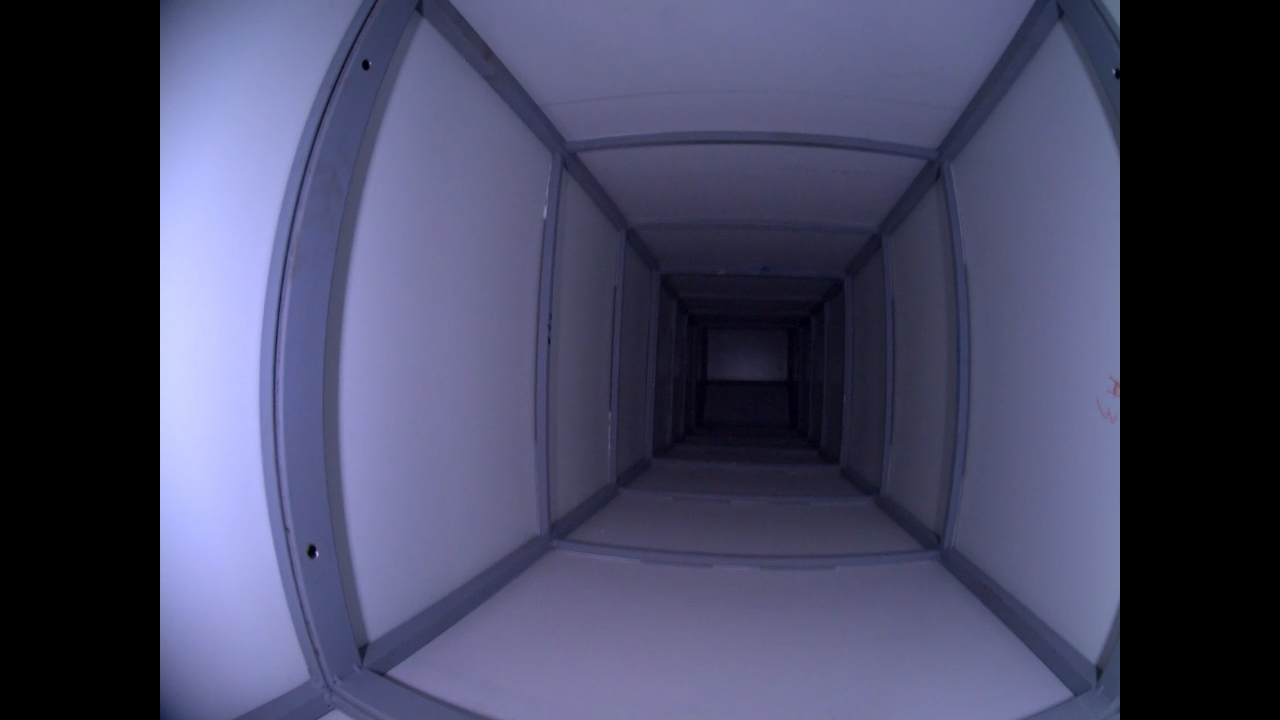divider: (519, 119, 986, 579)
